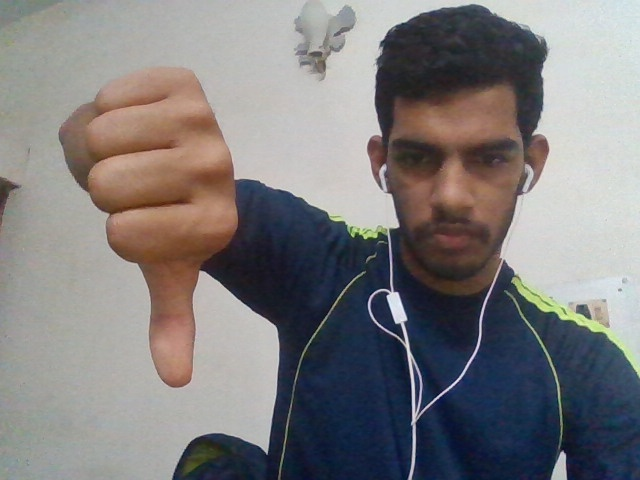no: (90, 67, 291, 376)
